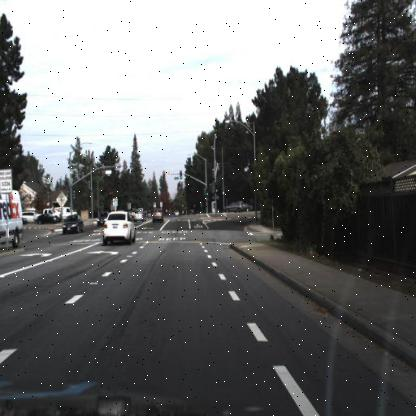car: (102, 206, 138, 242), (60, 213, 86, 236), (63, 213, 82, 234), (222, 199, 245, 215), (58, 203, 76, 223), (149, 204, 165, 226), (95, 205, 109, 229), (40, 203, 59, 217), (24, 210, 43, 223), (131, 208, 145, 224), (152, 208, 162, 224), (243, 201, 256, 213)
trafficLight-Green: (176, 169, 184, 182), (203, 186, 209, 200), (214, 184, 220, 197)
trafficLight-Red: (161, 164, 167, 180)
truck: (0, 188, 24, 250), (58, 204, 78, 223)
